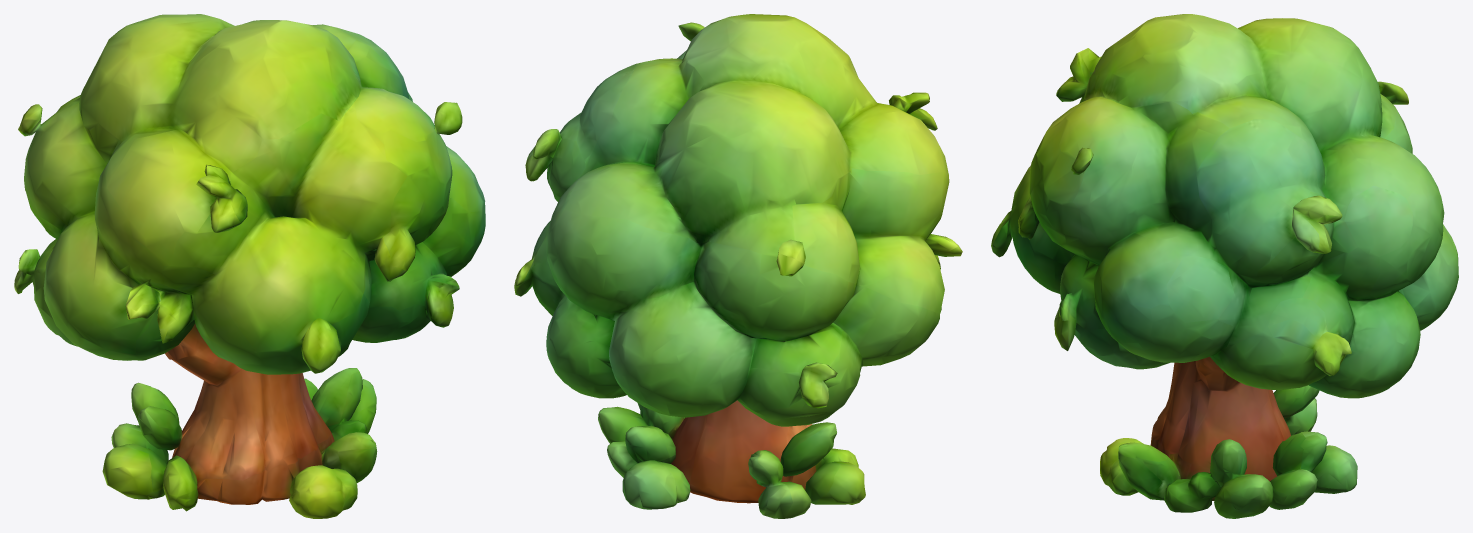
File: tree.glb
3 views of the same model, side by side, from view 1: azimuth 30°, elevation 25°; view 2: azimuth 150°, elevation 25°; view 3: azimuth 270°, elevation 25° (orthographic). The views are drawn at different scales.
Size of the model in its own units: 0.887 by 1 by 0.9419.
1 material, 1 textured.
